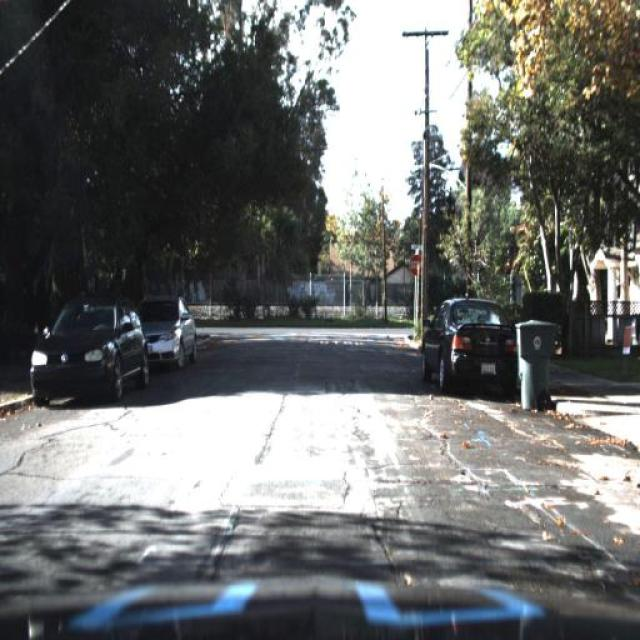car: (30, 301, 156, 408), (419, 294, 523, 404), (148, 288, 198, 377), (136, 299, 198, 360)
